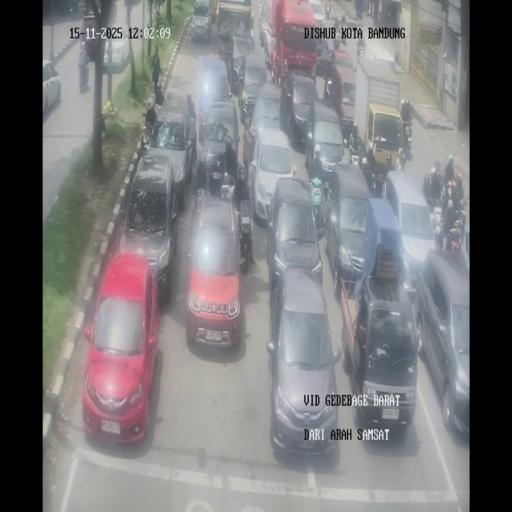3: (354, 56, 400, 167), (268, 0, 318, 85), (214, 1, 254, 58)
car: (82, 254, 160, 444), (267, 269, 339, 458), (414, 249, 470, 440), (185, 193, 245, 350), (384, 171, 440, 294), (326, 164, 374, 292), (143, 100, 194, 205), (250, 124, 296, 227), (307, 100, 345, 183), (198, 56, 232, 134), (240, 52, 270, 122), (336, 84, 357, 136), (103, 34, 130, 72), (42, 60, 61, 114), (190, 0, 214, 41), (258, 0, 272, 49), (316, 39, 334, 75), (306, 0, 326, 26)
truck: (432, 202, 466, 254), (238, 217, 254, 269), (309, 185, 324, 237), (359, 154, 375, 194), (442, 178, 459, 213), (372, 162, 386, 198), (348, 138, 363, 167), (78, 57, 90, 92), (403, 123, 413, 158), (332, 13, 344, 42), (396, 151, 408, 175), (155, 80, 165, 105), (323, 75, 332, 100), (356, 41, 365, 58), (362, 0, 370, 17), (325, 0, 331, 18), (112, 1, 117, 19), (378, 10, 383, 23)
